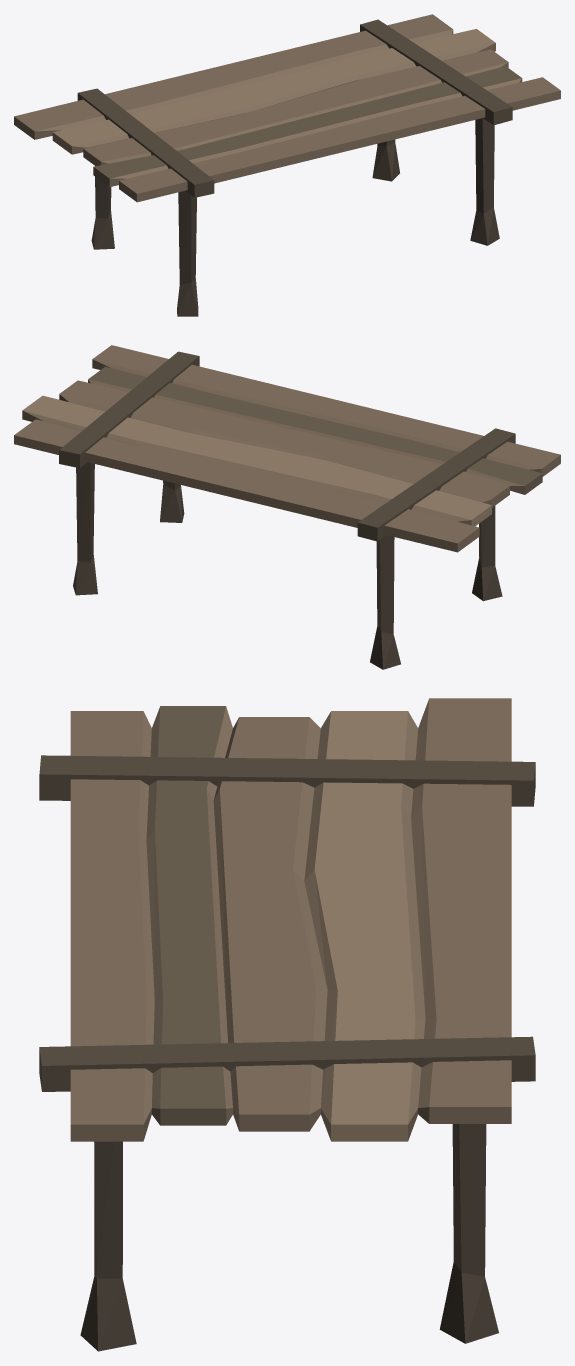
Rendered from SM_Prop_Table_02.glb.
3 renders of one model, top to bottom at view 1: azimuth 30°, elevation 25°; view 2: azimuth 150°, elevation 25°; view 3: azimuth 270°, elevation 25°, orthographic. The views are drawn at different scales.
Parts seen in each view (by area): view 1: SM_Prop_Table_02_part00; view 2: SM_Prop_Table_02_part00; view 3: SM_Prop_Table_02_part00.
Boxes of the visible parts, x1,y1,x2,y2 form: SM_Prop_Table_02_part00: [14, 14, 560, 316]; SM_Prop_Table_02_part00: [14, 345, 560, 669]; SM_Prop_Table_02_part00: [39, 698, 535, 1351].
Bounding box in the file's own units: 2.8 × 0.8699 × 1.38.
Materials: 1 (1 with a texture image).
